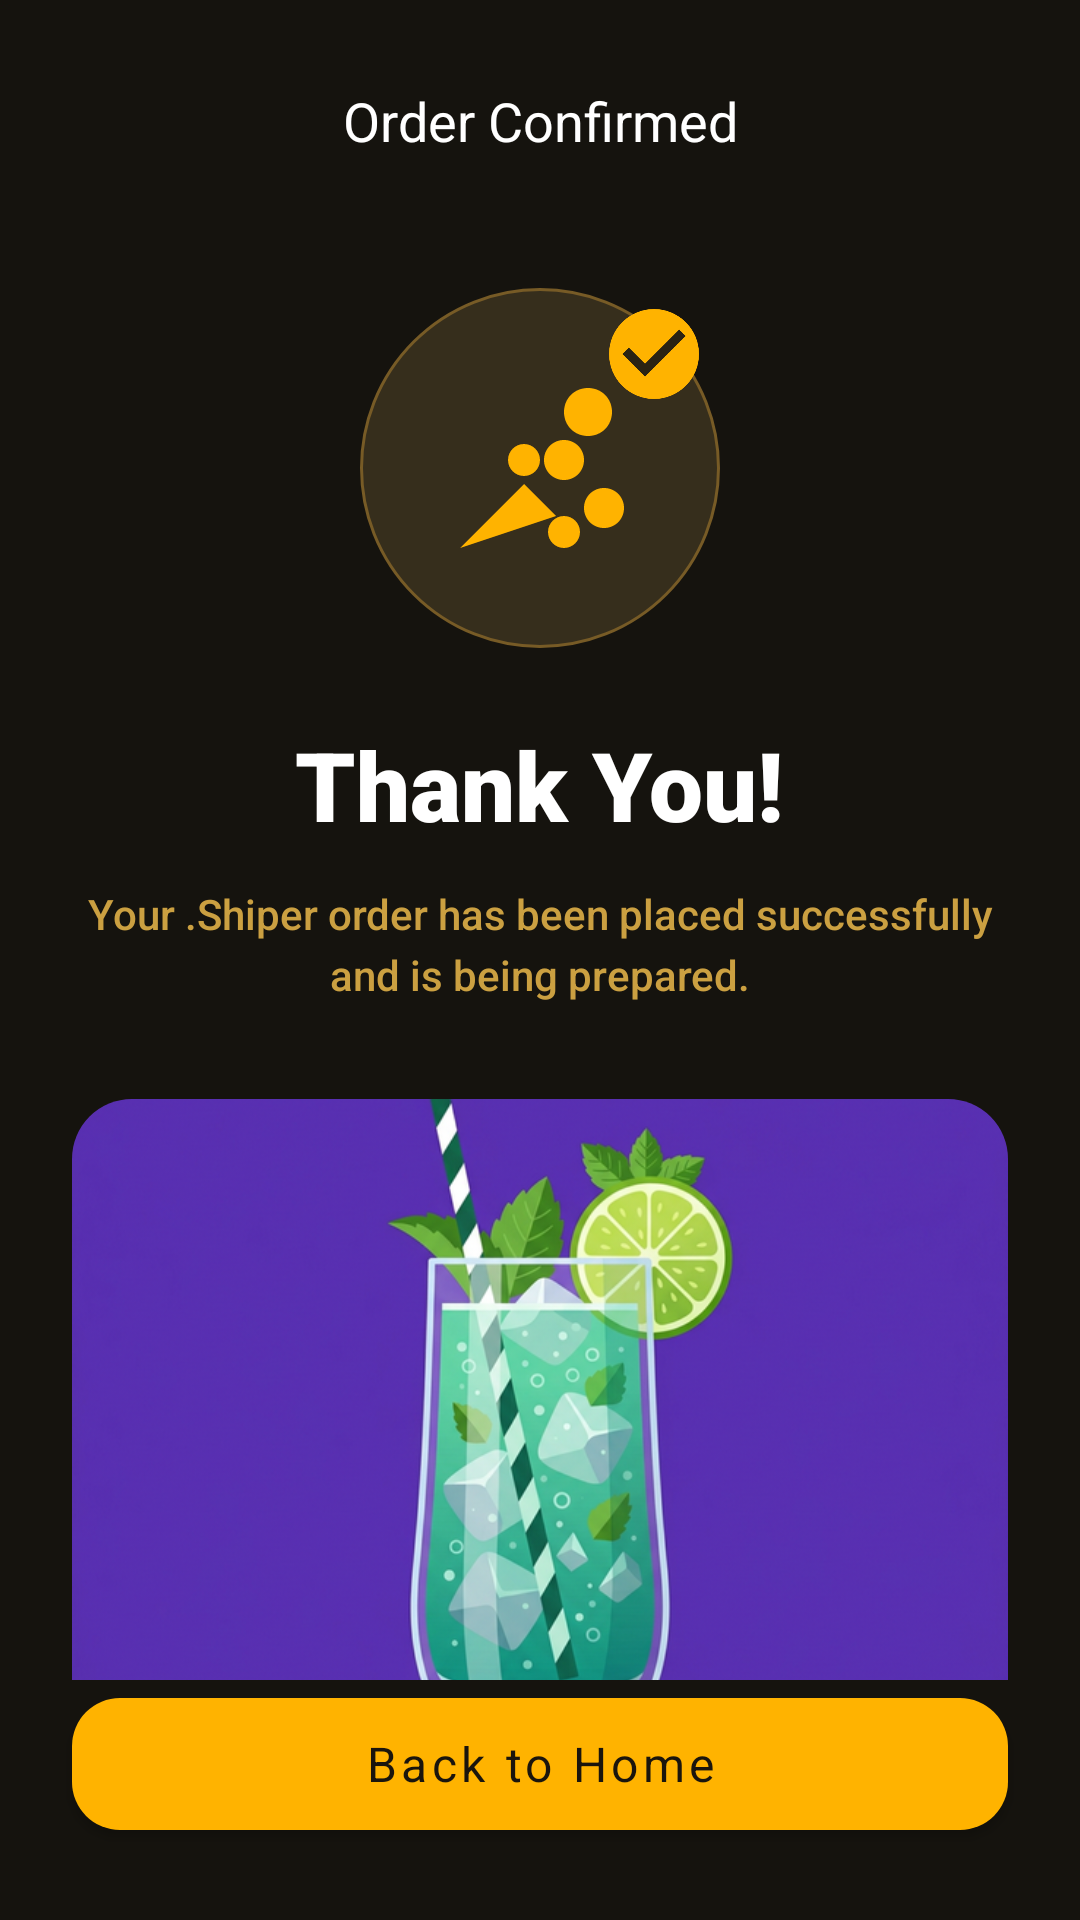

Screen size 1080px×1920px. Icon name, then its center in pixels as (x=x, y=y):
check circle gold: (x=654, y=354)
popper: (x=542, y=468)
